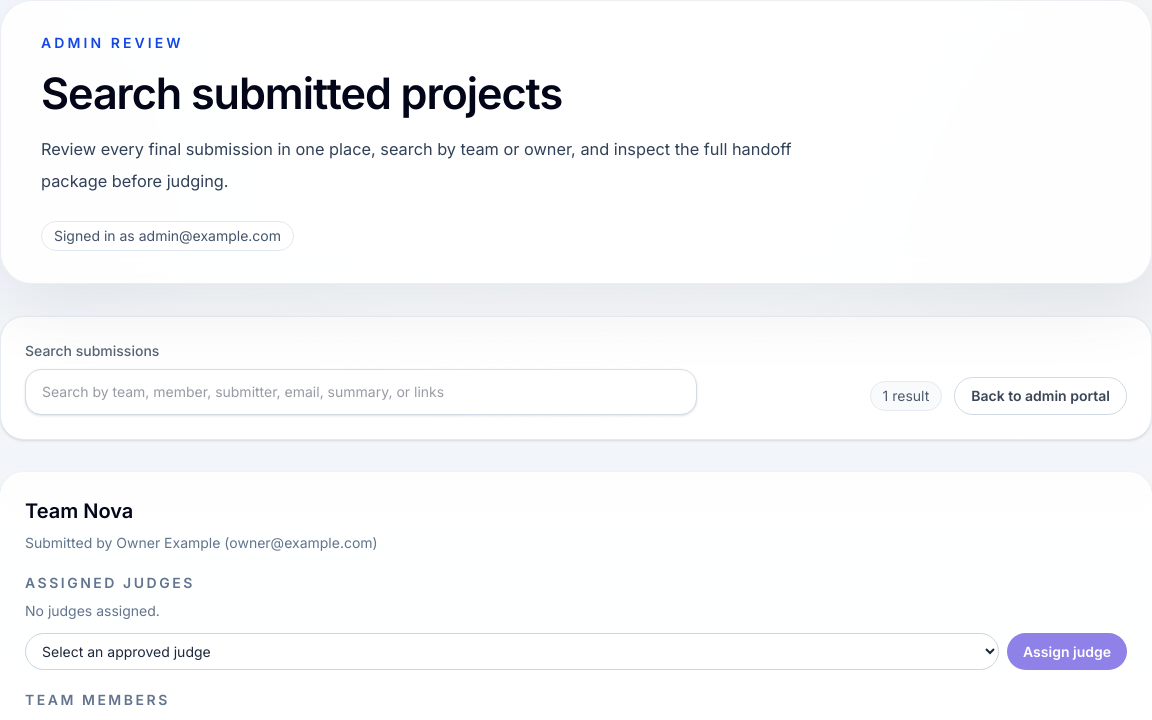
Test: AdminSubmissionsPage › lets an admin assign an approved replacement judge
Select "replacement@example.com" in the dropdown named "Assign a judge to Team Nova" at x=512, y=652, box [25,633,999,670]
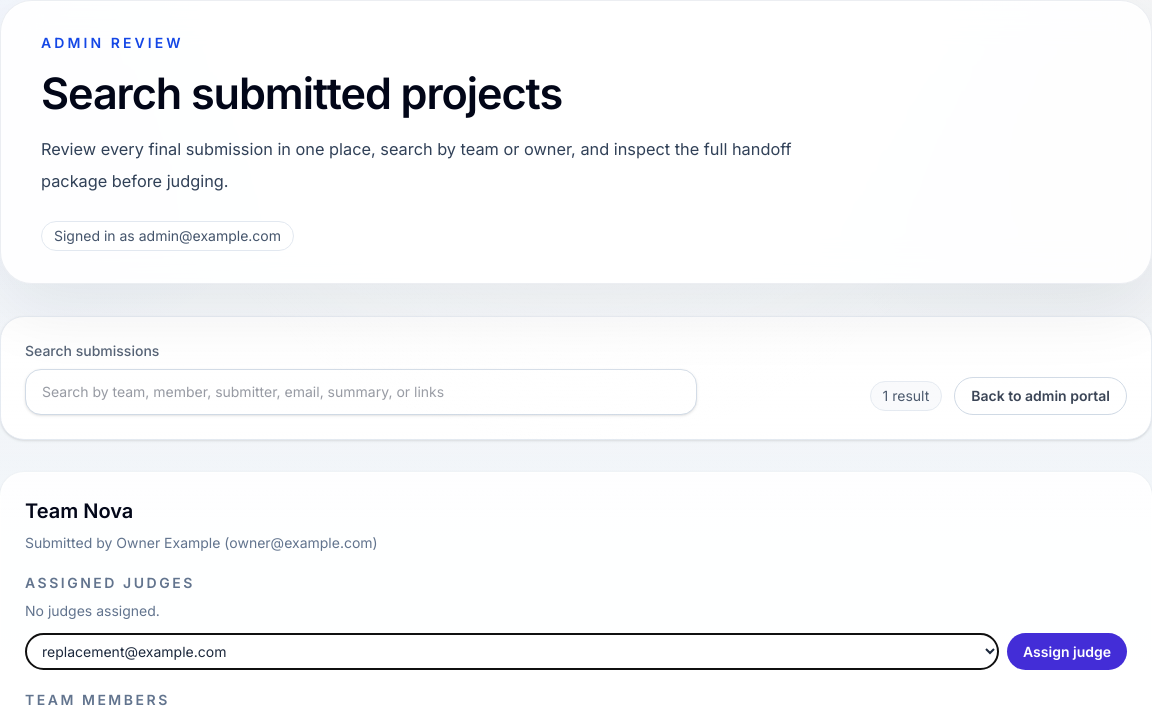
Click the button "Assign judge" at x=1067, y=652, box [1007,633,1127,670]
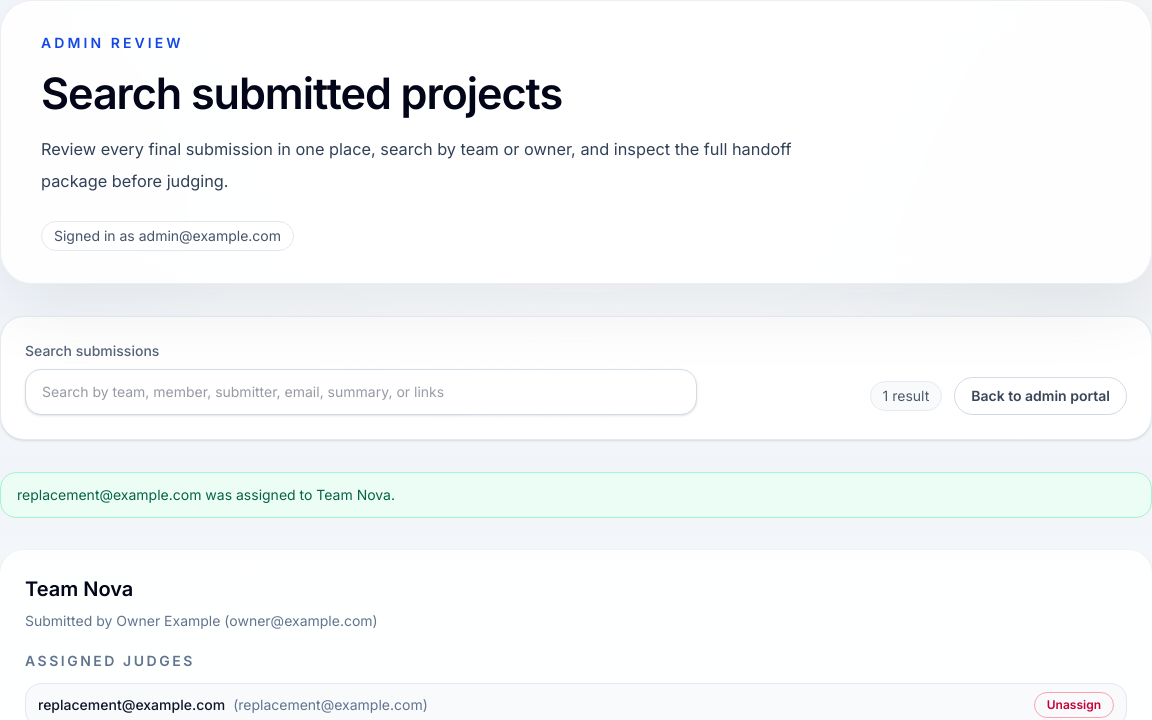
Expected: the message reads "replacement@example.com was assigned to Team Nova.", [17,486,395,503]
